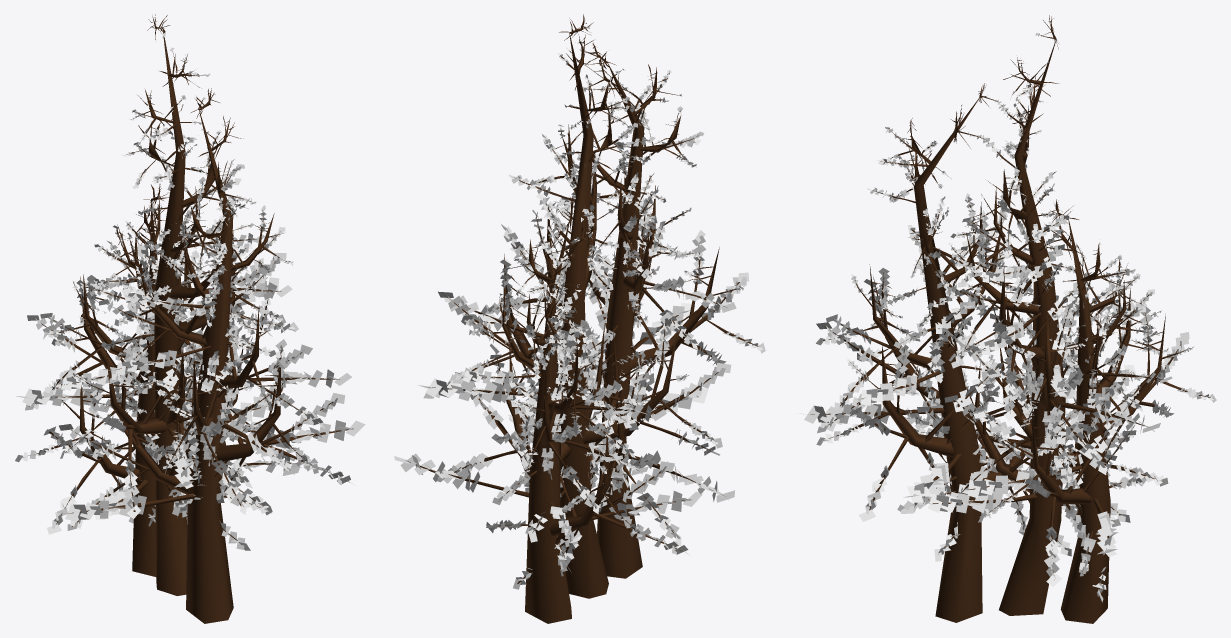
Rendered from koks6mesh.fbx.
3 views of the same model, side by side, from view 1: azimuth 30°, elevation 25°; view 2: azimuth 150°, elevation 25°; view 3: azimuth 270°, elevation 25° (orthographic). The views are drawn at different scales.
Visible parts, largest first — view 1: Koks2.002; view 2: Koks2.002; view 3: Koks2.002.
Part boxes in pixels (x1,y1,x2,y2): Koks2.002: [15, 14, 365, 623]; Koks2.002: [394, 14, 765, 623]; Koks2.002: [798, 15, 1216, 623].
Size of the model in its own units: 24.93 by 49.16 by 31.79.
